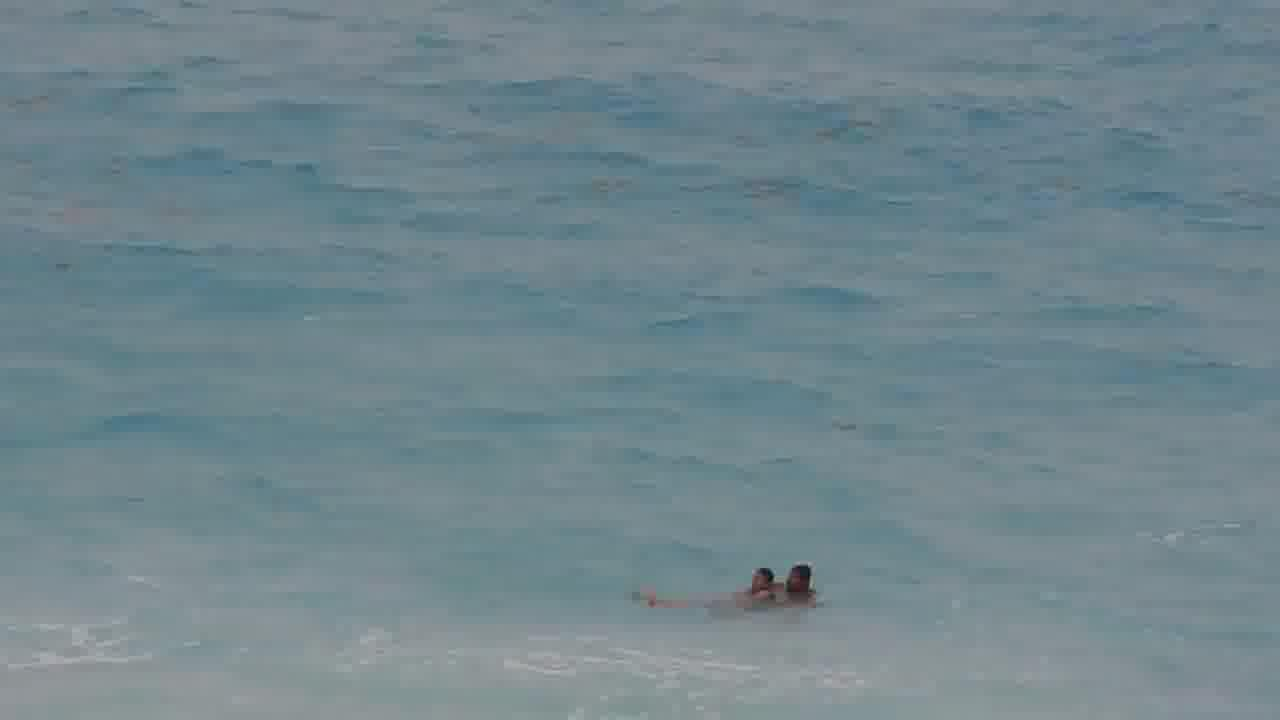human: (776, 539, 839, 613), (731, 547, 766, 596)
